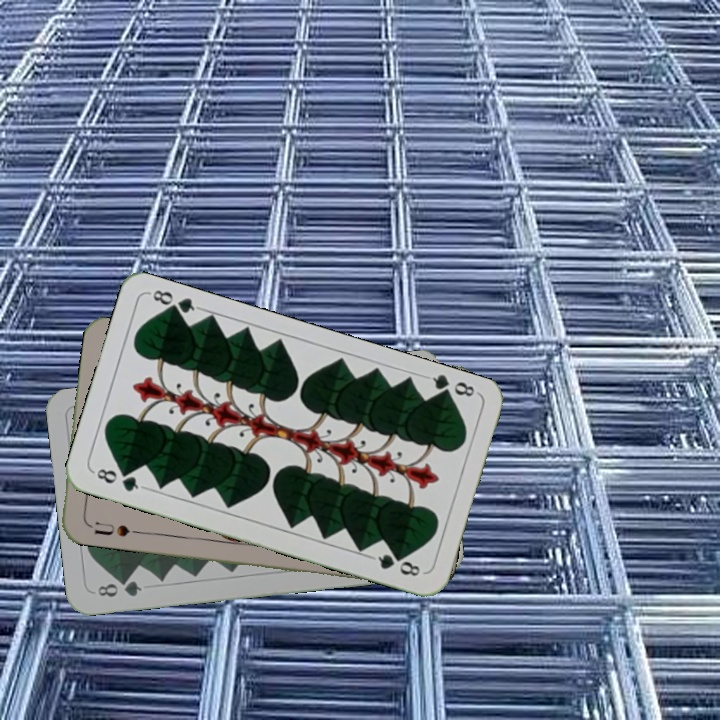G8: (89, 464, 147, 495), (422, 371, 477, 403), (93, 576, 145, 600)
SU: (83, 518, 132, 540)
